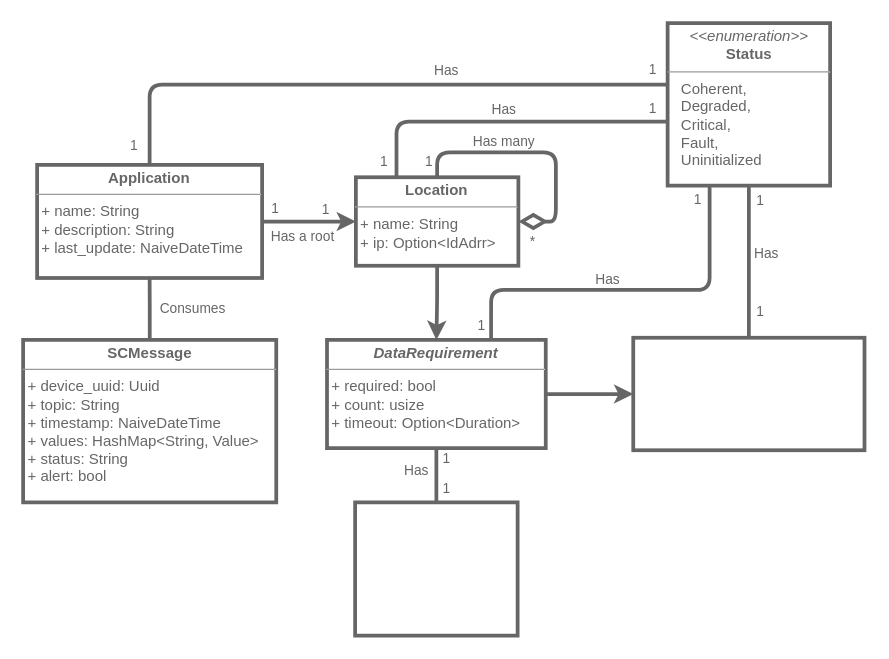
This 889x659 diagram has some shape labels left out. The box of each missing label's shape, as (x1, y1, x2, y2) in pixels:
<<enumeration>> IoTOutput Number, Boolean, Text, Invalid: (353, 500, 519, 637)
Component + name: String + uuid: Uuid + last_reading: NaiveDateTime: (631, 335, 866, 452)
